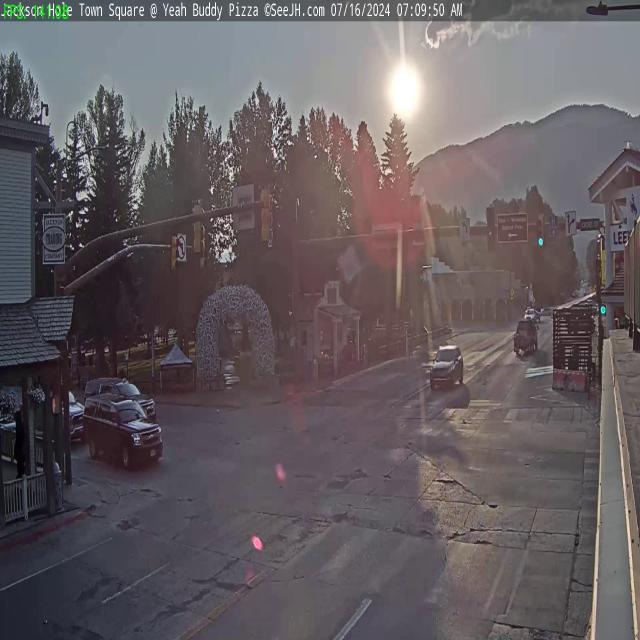suv: (85, 396, 162, 469), (84, 378, 156, 418), (430, 342, 466, 389)
traffic light: (260, 184, 274, 244), (190, 198, 204, 254), (486, 207, 496, 250), (170, 234, 179, 278), (536, 214, 545, 247)
truck: (512, 316, 537, 354)
